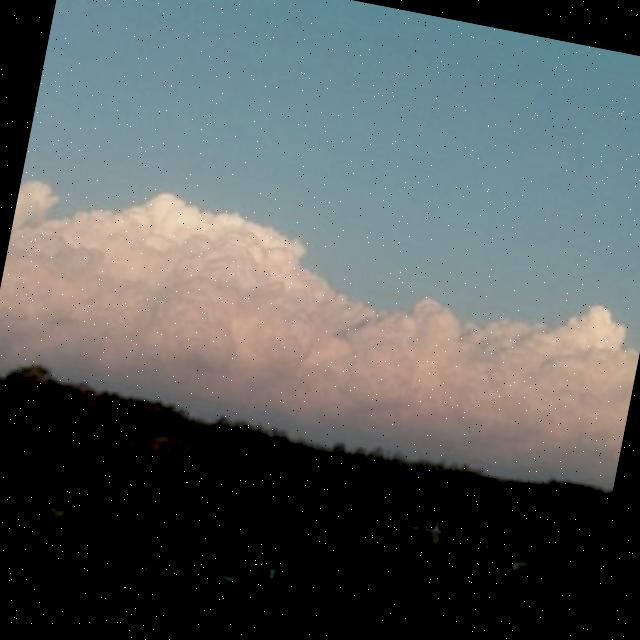Cu: (1, 96, 640, 466)
